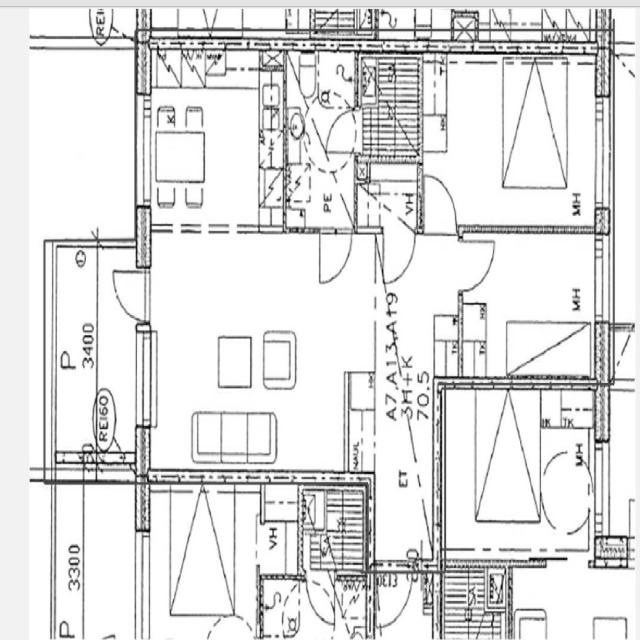door: (537, 436, 595, 542), (312, 76, 358, 189), (372, 566, 417, 632), (419, 167, 461, 236), (110, 262, 155, 324), (378, 219, 419, 287), (456, 231, 498, 295), (303, 569, 337, 636), (317, 225, 353, 287), (325, 106, 359, 158), (449, 7, 478, 57), (202, 612, 238, 640)
window: (590, 88, 616, 219), (132, 319, 158, 438), (590, 228, 618, 332)
zone: (144, 232, 352, 472), (422, 48, 610, 218), (144, 38, 280, 231), (438, 380, 594, 545), (47, 238, 145, 470), (458, 227, 602, 384), (136, 476, 258, 637), (284, 40, 359, 227), (66, 477, 148, 640), (507, 558, 633, 640), (360, 38, 442, 164), (297, 480, 372, 576), (536, 434, 596, 543), (259, 574, 301, 638), (594, 534, 628, 570)
